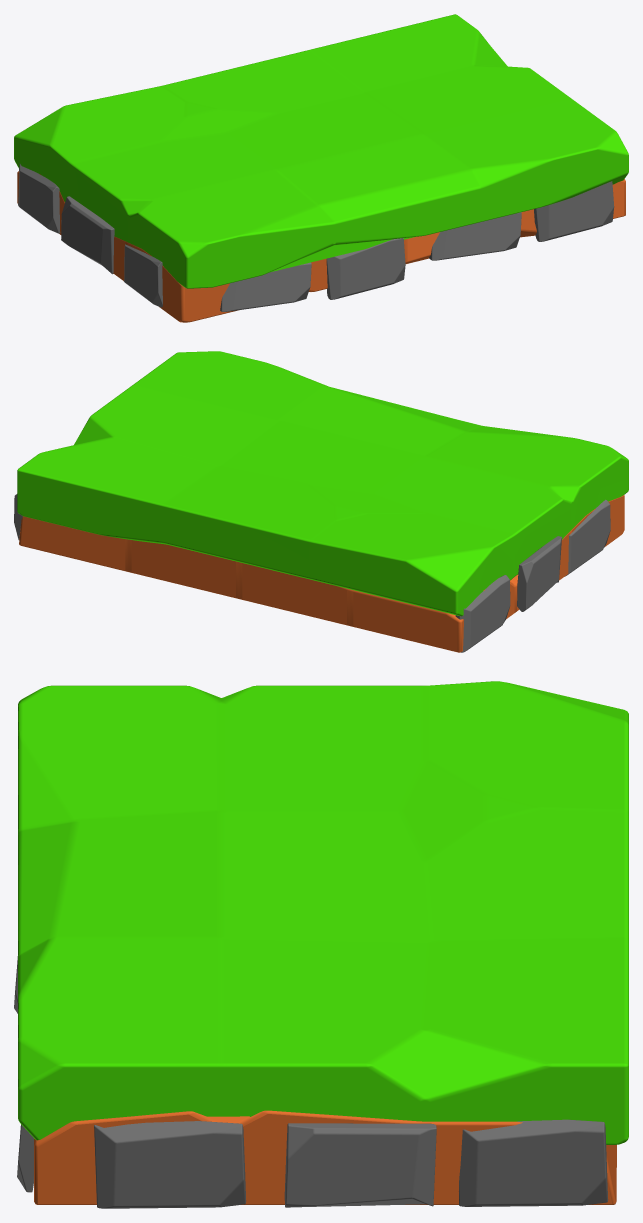
The model's file is platform.fbx.
The picture shows the model from 3 angles, top to bottom: view 1: azimuth 30°, elevation 25°; view 2: azimuth 150°, elevation 25°; view 3: azimuth 270°, elevation 25°; orthographic projection. The views are drawn at different scales.
Parts seen in each view (by area): view 1: Plane.001, Plane.004, Cube.019_Cube.020, Cube.019_Cube.001, Cube.009_Cube.010, Cube.009_Cube.001, Cube.010_Cube.001, Cube.011_Cube.002, Cube.011_Cube.003; view 2: Plane.001, Plane.004, Cube.011_Cube.002, Cube.010_Cube.001, Cube.011_Cube.003; view 3: Plane.001, Plane.004, Cube.011_Cube.012, Cube.010_Cube.011, Cube.011_Cube.001, Cube.019_Cube.001.
Part boxes in pixels (x1,y1,x2,y2): Plane.001: [14, 14, 628, 288]; Plane.004: [17, 171, 625, 322]; Cube.019_Cube.020: [326, 238, 405, 299]; Cube.019_Cube.001: [534, 181, 614, 241]; Cube.009_Cube.010: [220, 262, 311, 311]; Cube.009_Cube.001: [429, 212, 521, 260]; Cube.010_Cube.001: [61, 196, 114, 274]; Cube.011_Cube.002: [18, 164, 60, 233]; Cube.011_Cube.003: [124, 244, 162, 307]; Plane.001: [17, 351, 628, 616]; Plane.004: [19, 495, 624, 652]; Cube.011_Cube.002: [455, 575, 510, 652]; Cube.010_Cube.001: [517, 536, 561, 611]; Cube.011_Cube.003: [564, 499, 610, 576]; Plane.001: [18, 681, 628, 1144]; Plane.004: [34, 1110, 616, 1204]; Cube.011_Cube.012: [94, 1121, 246, 1208]; Cube.010_Cube.011: [284, 1123, 436, 1207]; Cube.011_Cube.001: [459, 1119, 608, 1206]; Cube.019_Cube.001: [17, 1124, 33, 1192].
Size of the model in its own units: 509 by 95.96 by 328.
